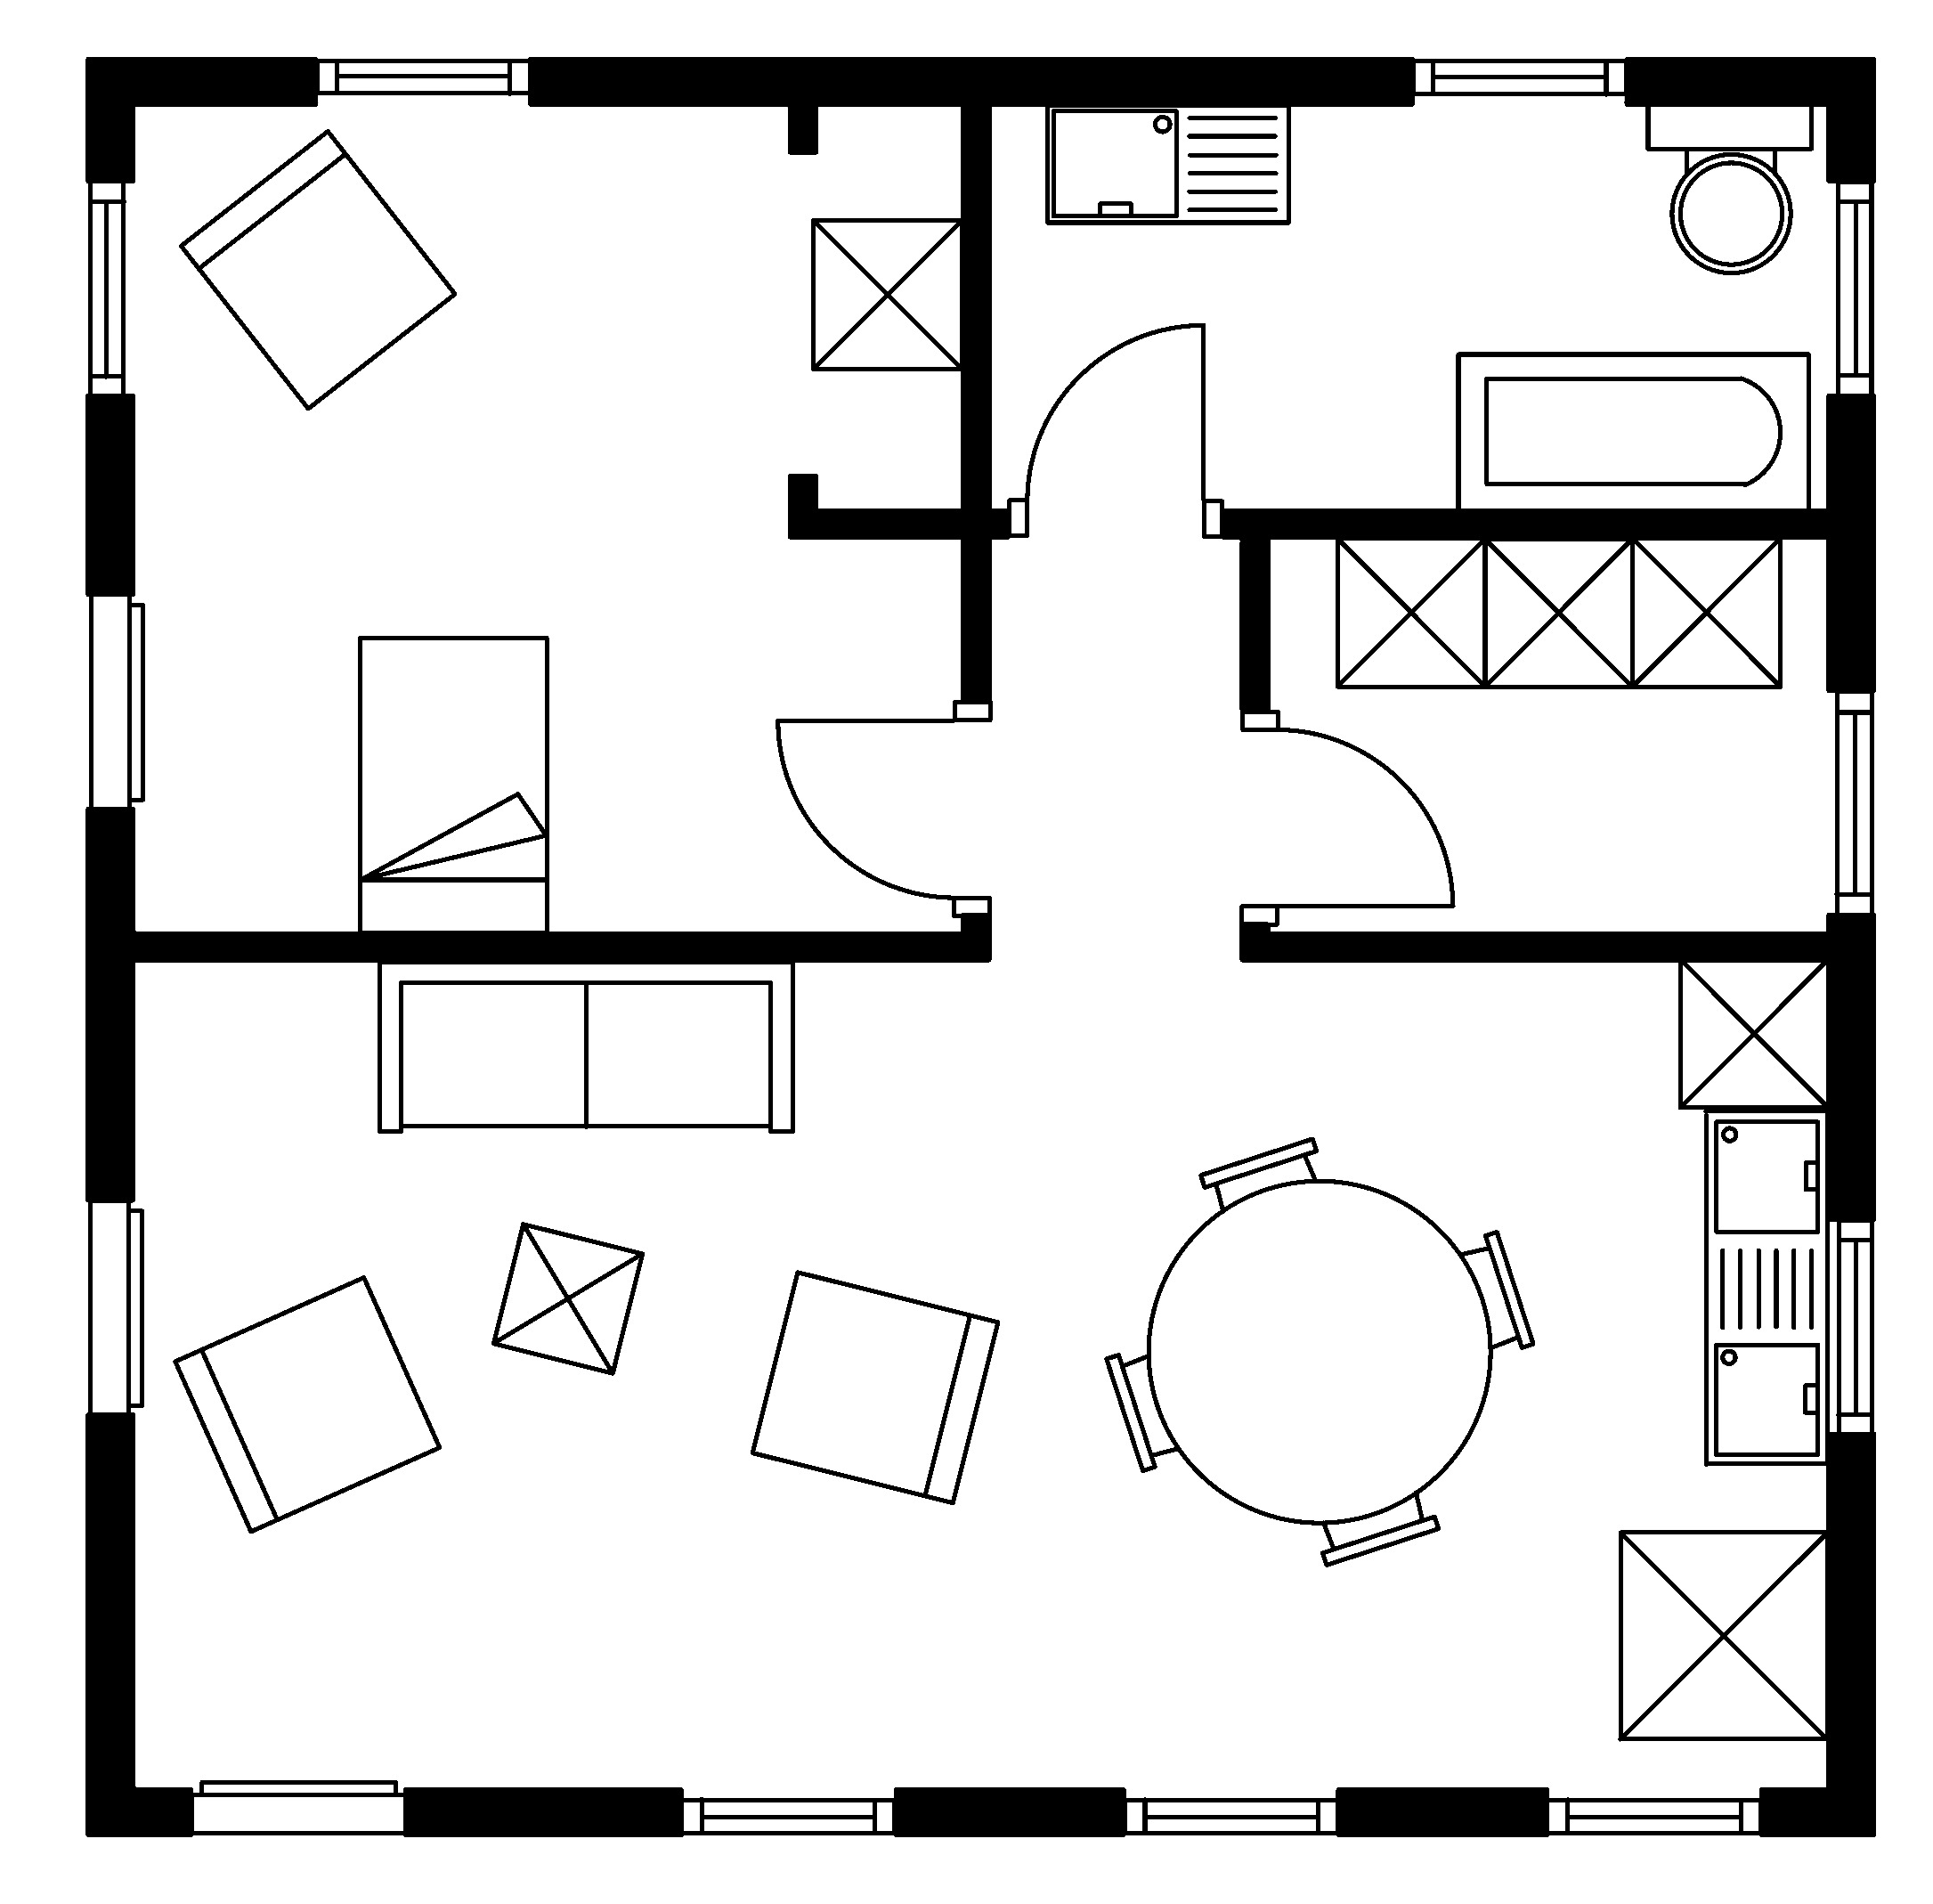basin: (1698, 1109, 1825, 1472), (1044, 108, 1295, 227)
bed: (352, 628, 553, 931)
door: (1007, 321, 1225, 541), (772, 701, 994, 915), (1239, 710, 1457, 924)
roundTable: (1100, 1133, 1539, 1569)
window: (1414, 54, 1630, 103), (1834, 689, 1879, 919), (680, 1792, 899, 1839), (84, 185, 131, 401), (1126, 1794, 1339, 1839), (1550, 1794, 1762, 1839), (1832, 178, 1875, 396), (315, 54, 525, 99), (1835, 1219, 1877, 1437)
